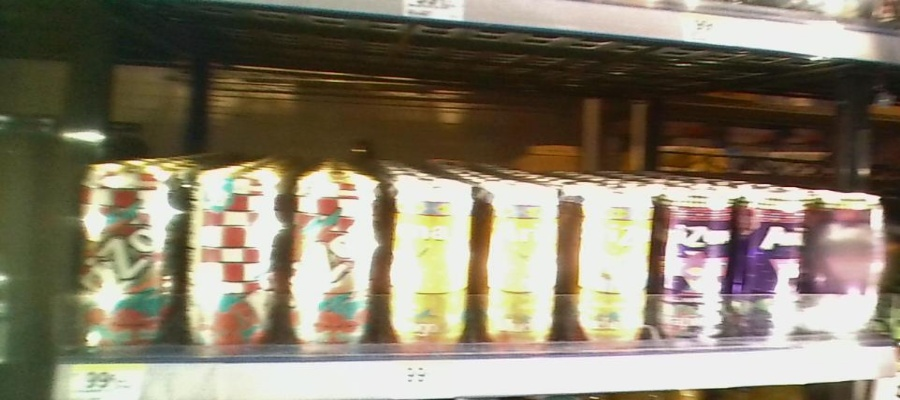bottle: (70, 154, 181, 364), (184, 156, 286, 361), (293, 156, 385, 364), (388, 158, 478, 359), (566, 164, 657, 362), (481, 161, 563, 358), (735, 170, 809, 359), (817, 174, 890, 364), (660, 174, 731, 362)
